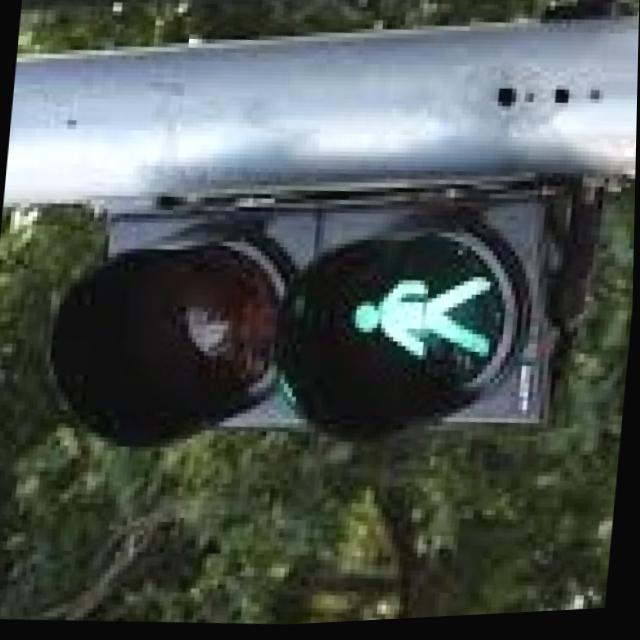green_light: (324, 257, 511, 398)
